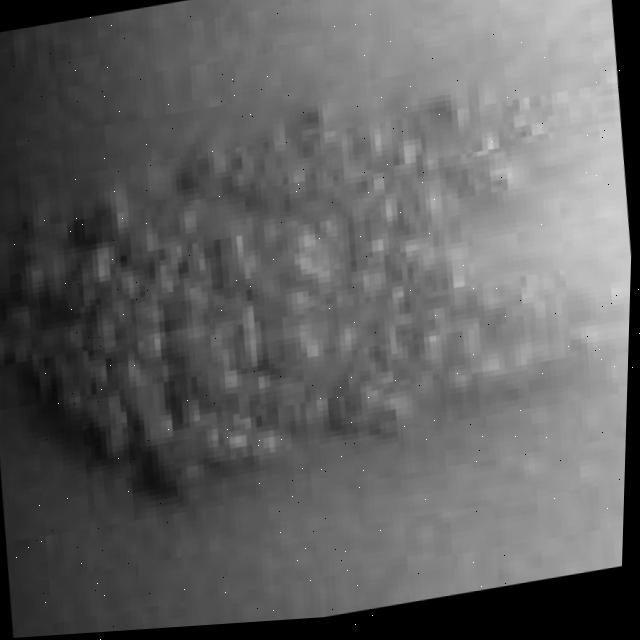Shingles: (0, 50, 618, 528)
